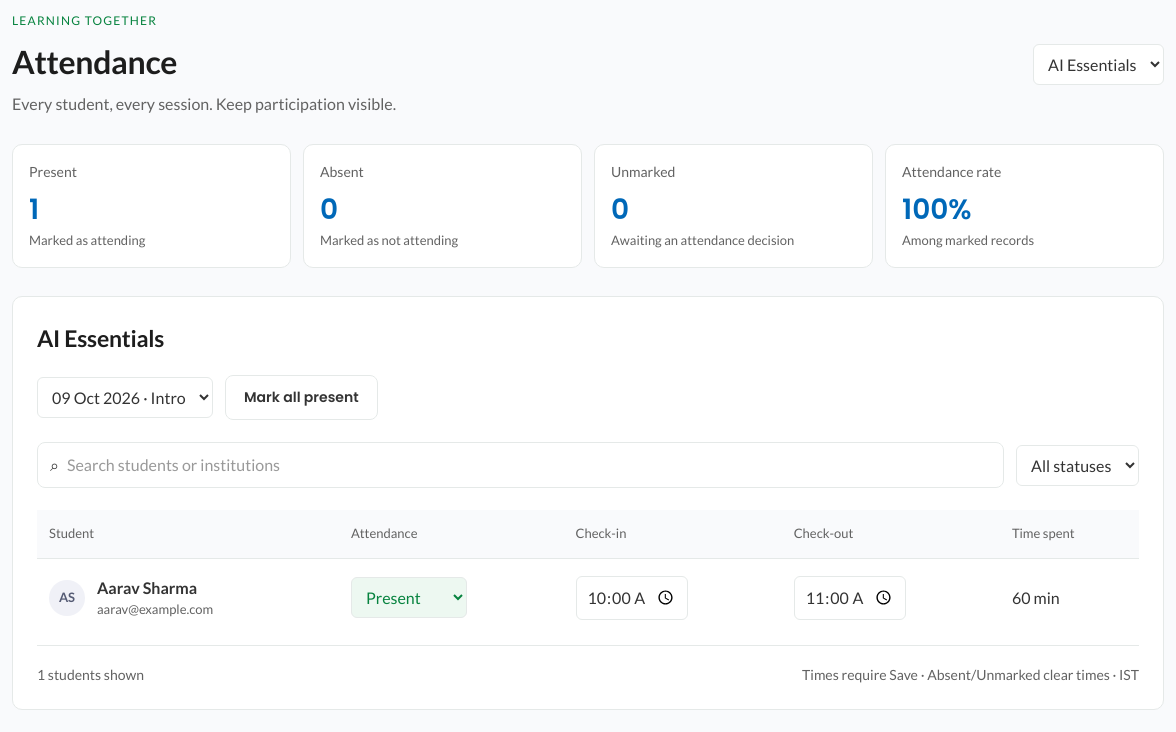
Scenario: session attendance › saves status, clears times for absence, and refetches session records
Select "Absent" in the dropdown named "Attendance for Aarav Sharma" at (409, 598), box 351,577 -> 467,618
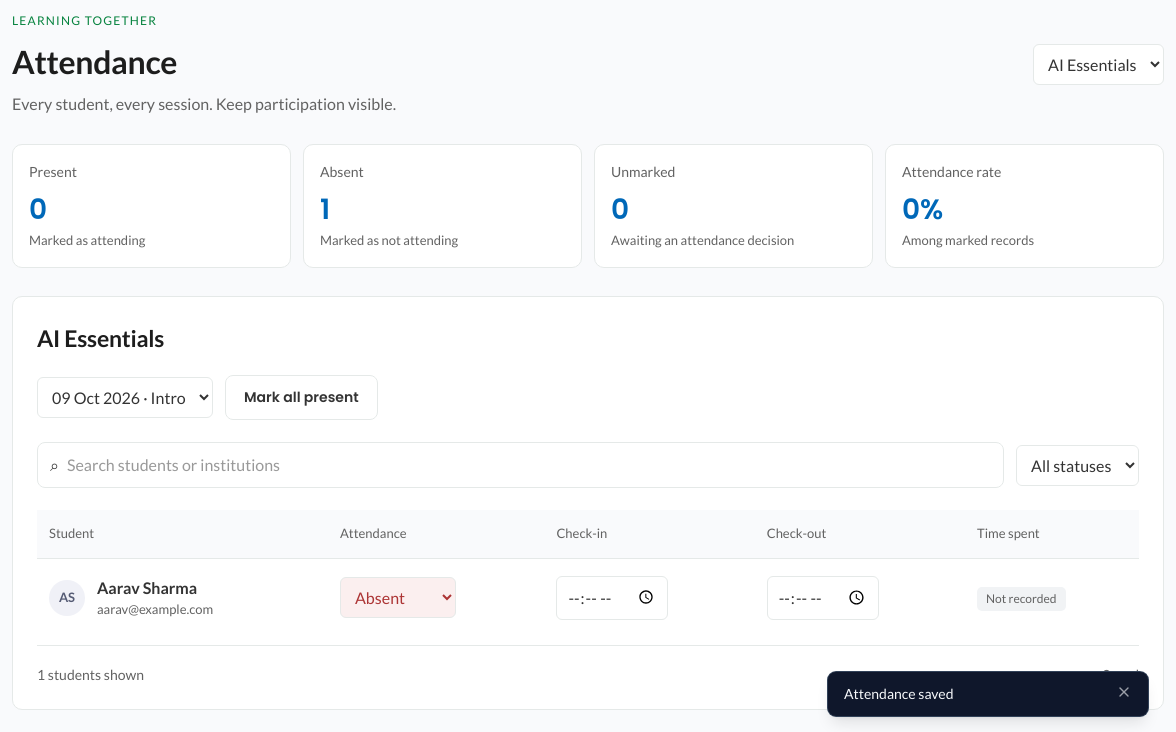
Now the time field named "Check-in for Aarav Sharma" is empty, box 556,576 -> 668,620
Now the text "Saved" is shown, box 1102,664 -> 1139,684
